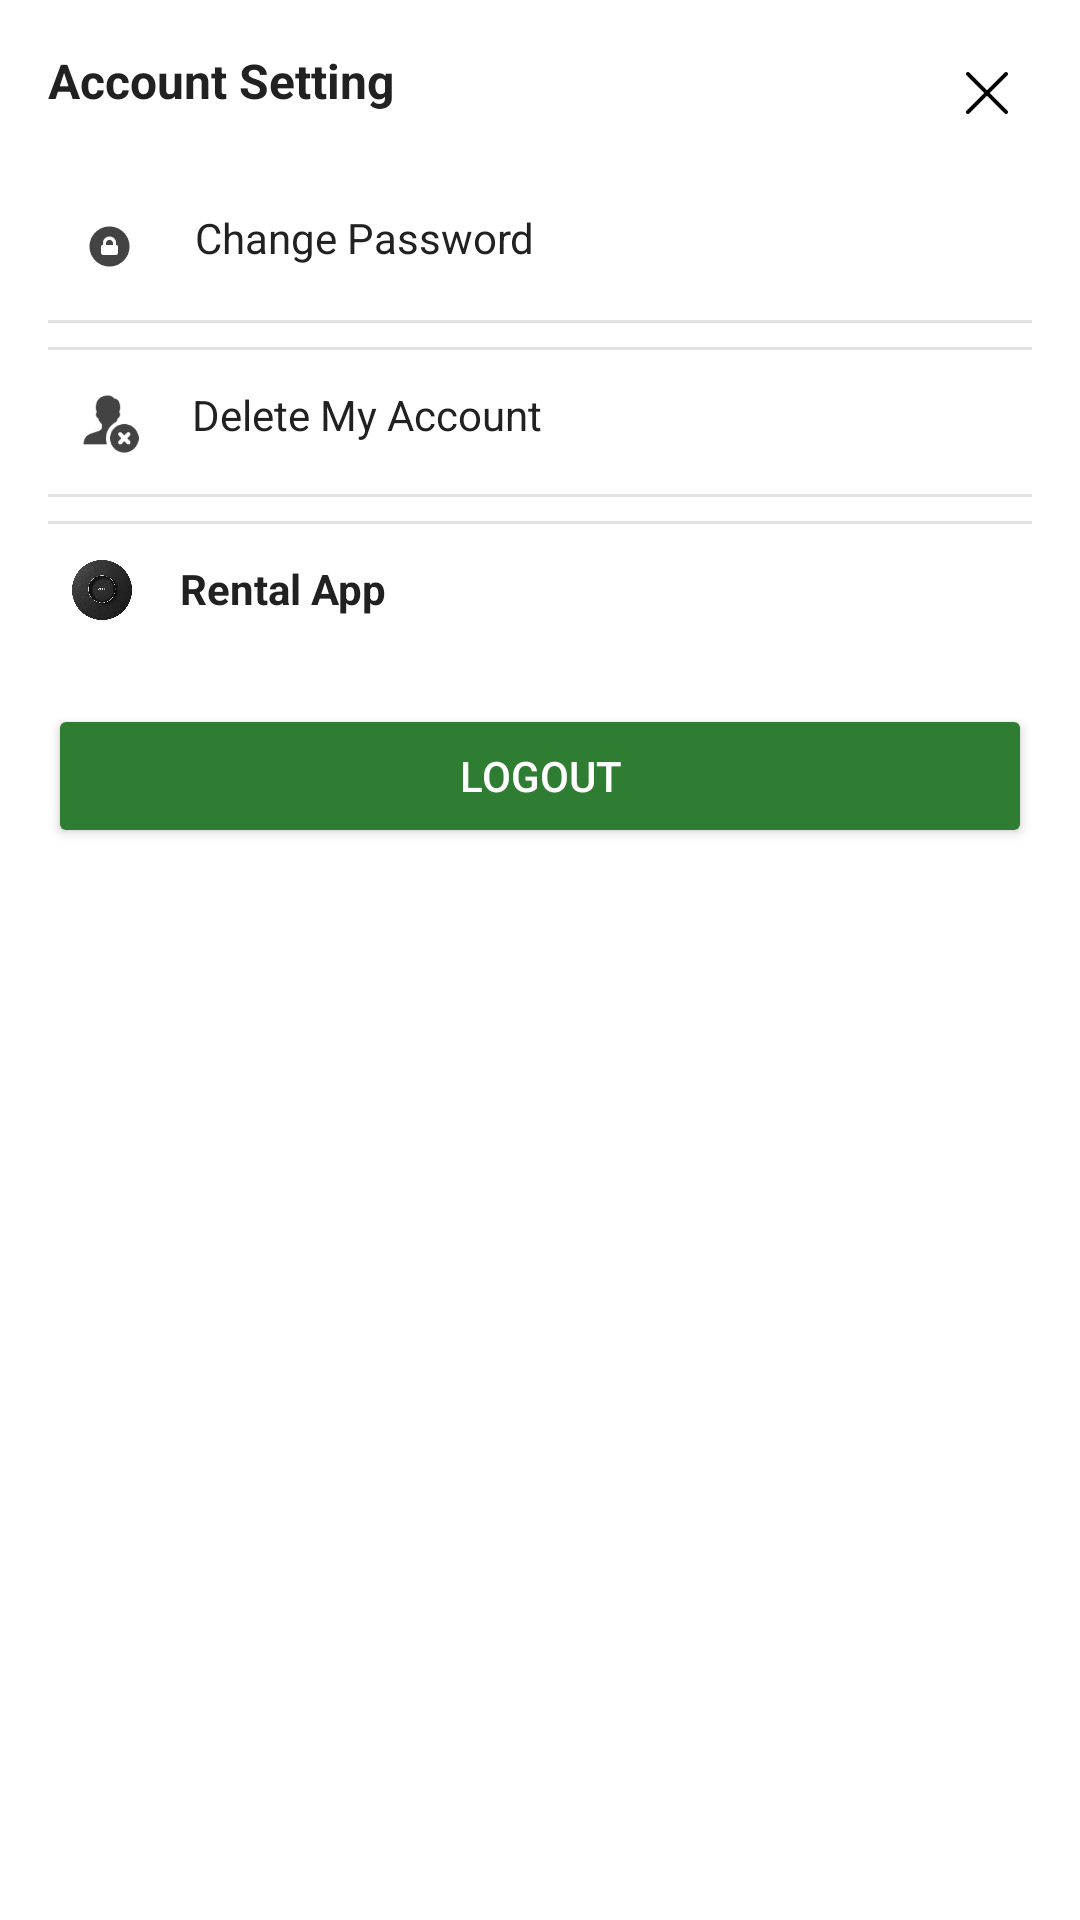

Locate icon controls on the screen. Image size 1080x1920, boxes as (x1, y1, x2, y2).
cross: (966, 72, 1008, 114)
denied: (83, 395, 139, 453)
secure: (89, 226, 130, 267)
